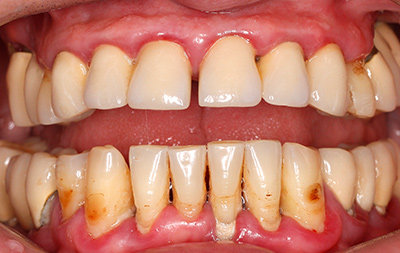LL1BC_healthy: (319, 143, 354, 212)
LL1M_healthy: (370, 142, 392, 216)
LL2BC_healthy: (354, 146, 376, 210)
LLCI_decay: (208, 137, 244, 222)
LLC_decay: (280, 141, 321, 227)
LLLI_decay: (244, 137, 281, 225)
LR1BC_decay: (56, 149, 88, 219)
LR2BC_decay: (26, 149, 56, 226)
LRCI_decay_decay: (168, 141, 208, 221)
LRC_decay: (85, 144, 130, 241)
LRLI_decay: (130, 141, 168, 234)
UL1BC_decay: (346, 61, 377, 119)
ULCI_decay: (191, 27, 261, 108)
ULC_healthy: (309, 40, 346, 117)
ULLI_healthy: (261, 41, 309, 108)
UR1BC_healthy: (38, 72, 54, 125)
URCI_healthy: (127, 34, 197, 111)
URC_healthy: (53, 43, 85, 118)
URLI_healthy: (85, 42, 127, 110)
